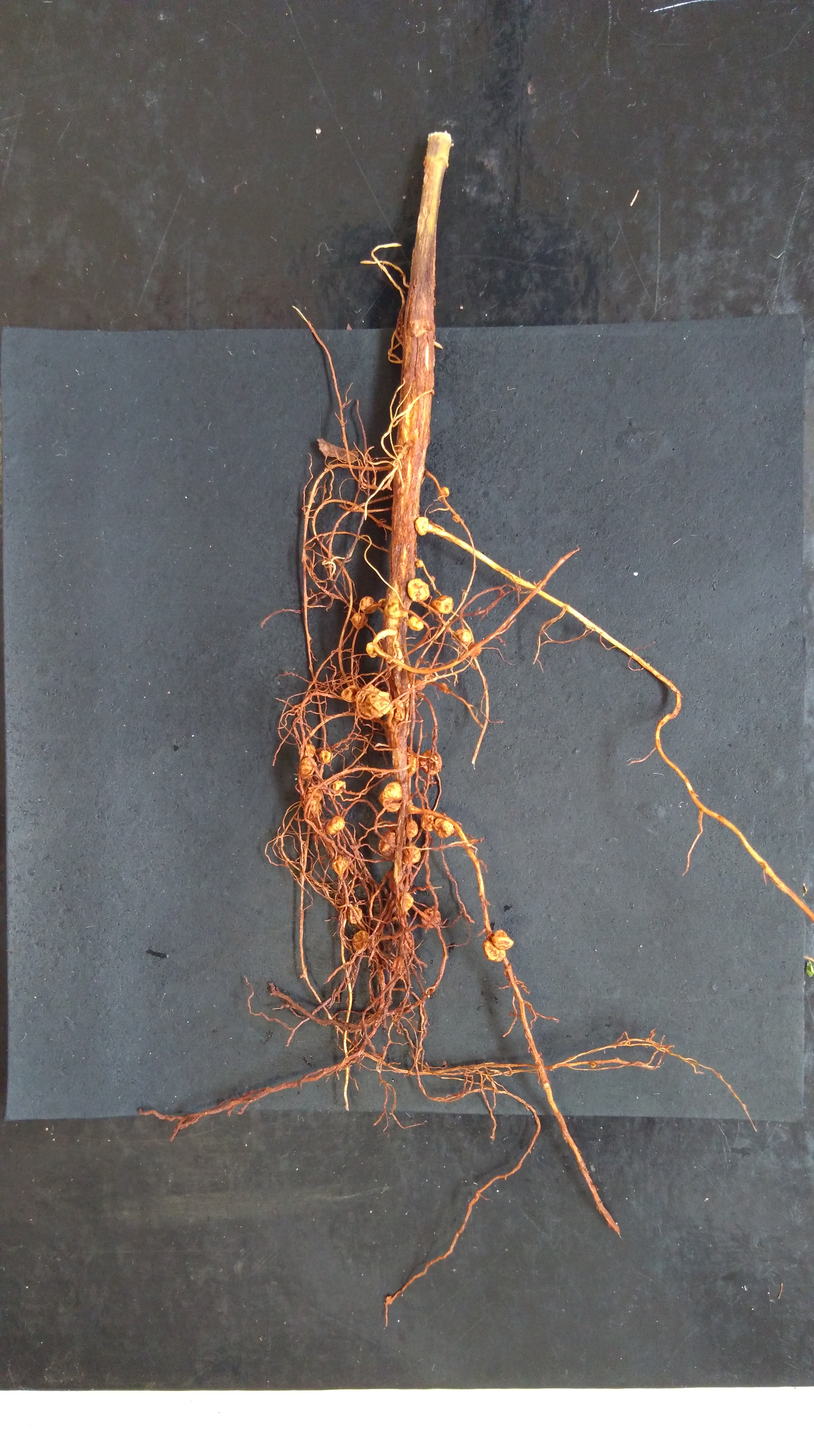nodule: (355, 683, 392, 720), (376, 780, 403, 815), (416, 747, 444, 776), (392, 746, 415, 777), (405, 576, 431, 603), (303, 785, 323, 819), (482, 937, 507, 963), (490, 928, 516, 951), (433, 816, 455, 840), (401, 843, 423, 866), (431, 594, 454, 615), (421, 906, 442, 929), (378, 830, 396, 856), (395, 890, 414, 913), (351, 929, 370, 952), (297, 757, 316, 779), (324, 815, 346, 834), (331, 852, 348, 876), (418, 813, 437, 834), (406, 614, 426, 633), (359, 594, 377, 615), (414, 515, 429, 538), (330, 778, 348, 797), (351, 612, 369, 630), (340, 683, 357, 702), (297, 742, 316, 759), (405, 817, 420, 838), (454, 628, 473, 644), (348, 905, 364, 924), (365, 640, 380, 660), (385, 868, 397, 893), (393, 698, 405, 723), (390, 956, 405, 975), (437, 484, 451, 501), (318, 749, 332, 765), (414, 678, 425, 691), (415, 557, 425, 569), (452, 514, 461, 524), (590, 1060, 597, 1070), (439, 682, 447, 690), (444, 687, 451, 694), (430, 575, 435, 582)
